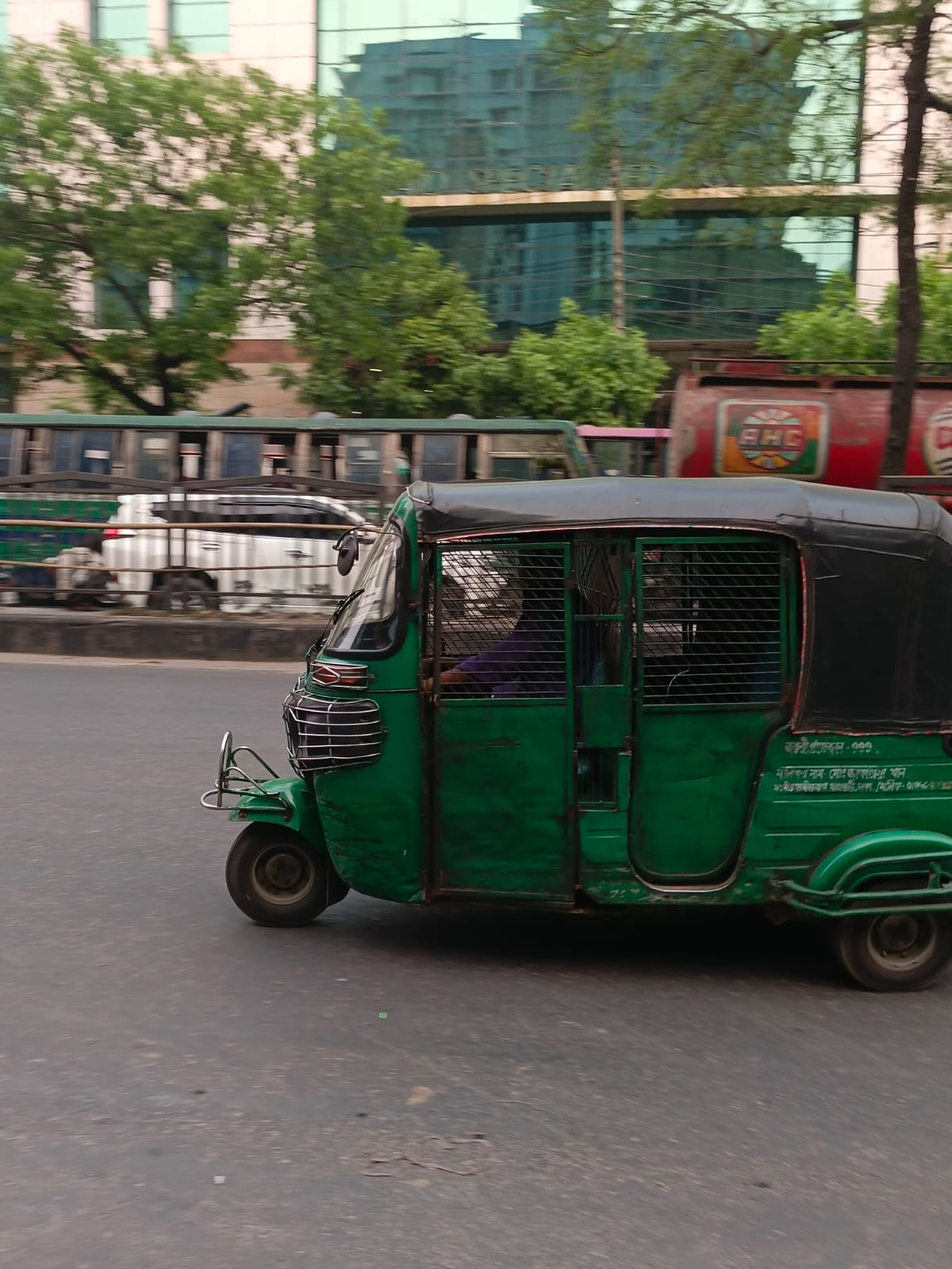cng: (222, 430, 952, 1007)
